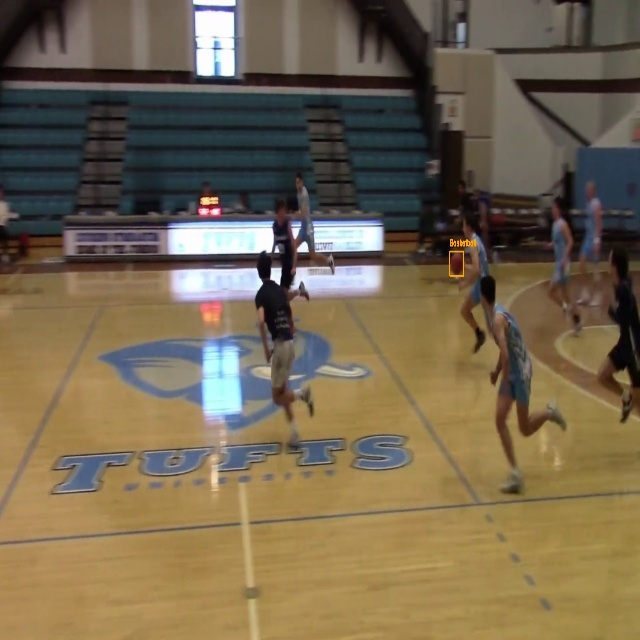Basketball: (450, 252, 464, 276)
